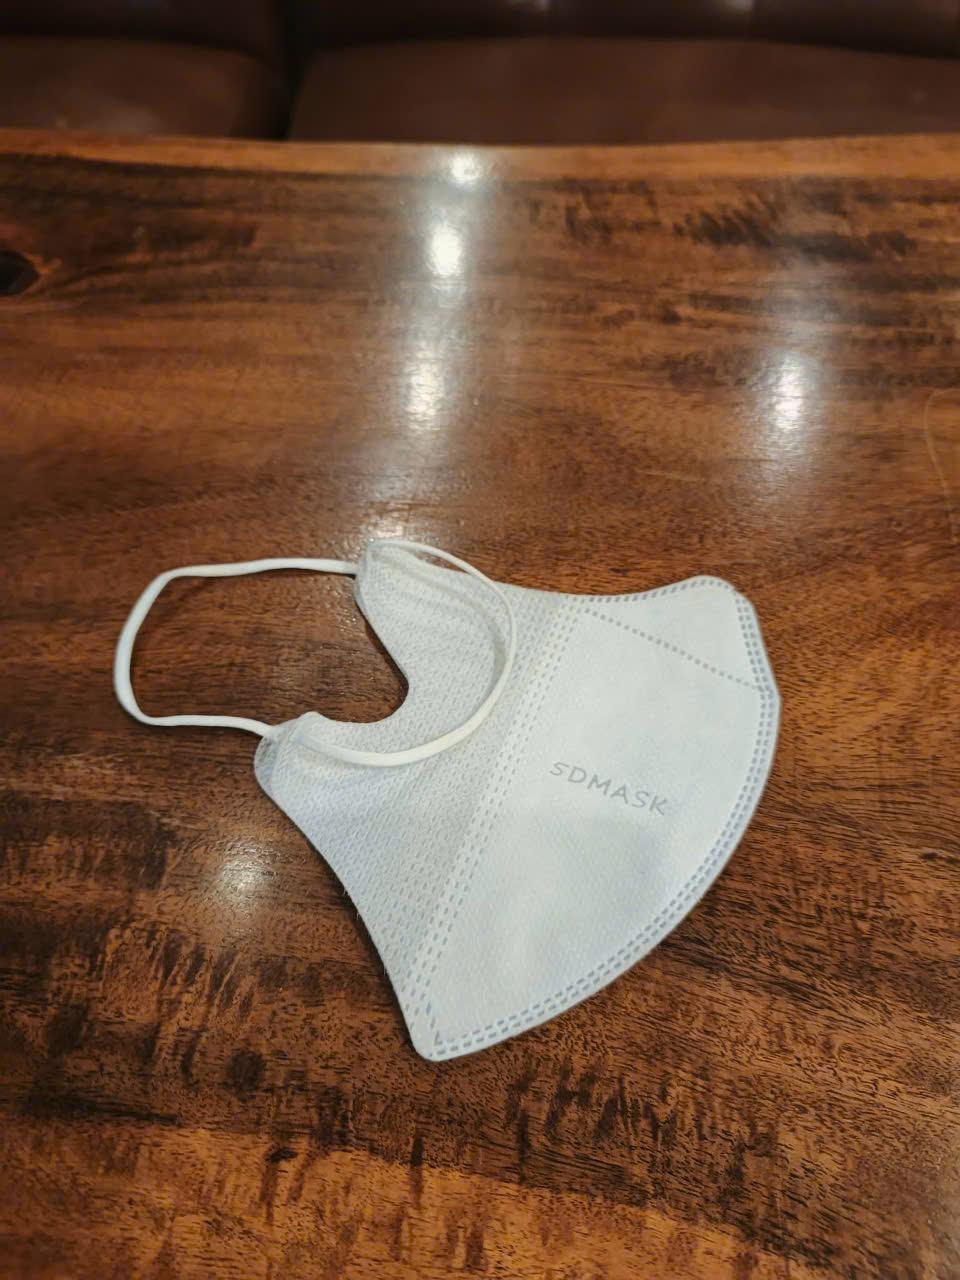Con lai: (108, 538, 781, 1064)
